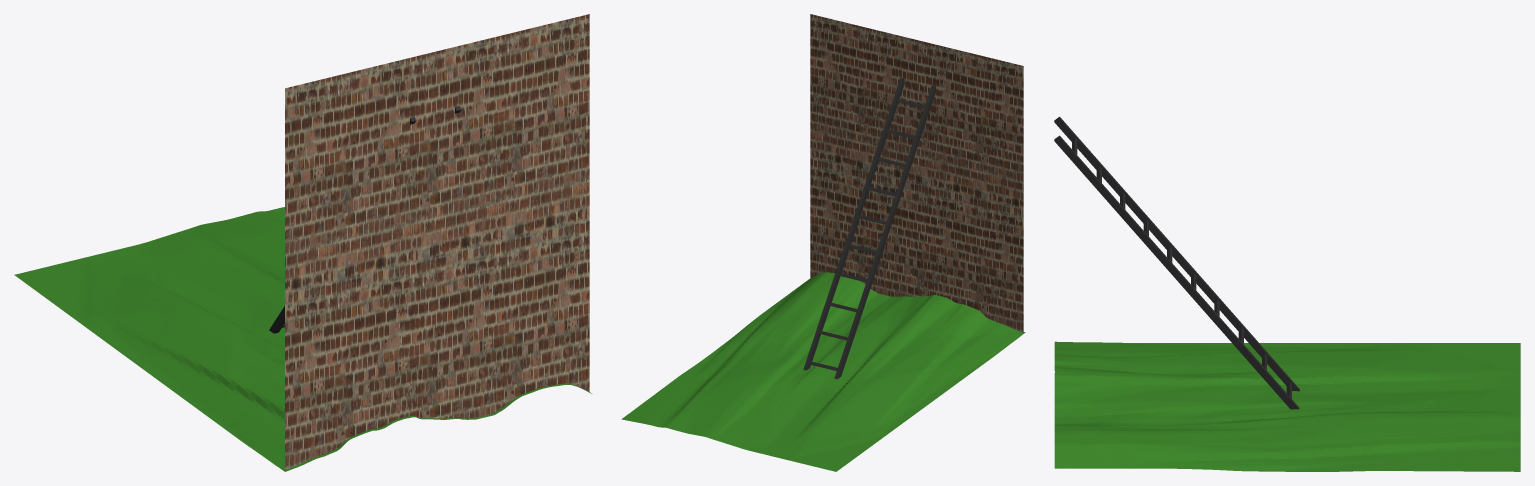
The model's file is ladder-transformed.glb.
3 views of the same model, side by side, from view 1: azimuth 30°, elevation 25°; view 2: azimuth 150°, elevation 25°; view 3: azimuth 270°, elevation 25° (orthographic). The views are drawn at different scales.
Visible parts, largest first — view 1: Plane.001, Plane; view 2: Plane.001, Plane, Ladders.018; view 3: Plane, Ladders.018.
Part boxes in pixels (x1,y1,x2,y2): Plane.001: (285,14,589,469); Plane: (14,207,591,471); Plane.001: (810,14,1023,332); Plane: (621,272,1025,471); Ladders.018: (803,77,935,379); Plane: (1054,341,1520,471); Ladders.018: (1054,116,1299,409).
Size of the model in its own units: 13.54 by 16.54 by 20.66.
3 materials, 1 textured.
